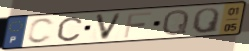C: (25, 17, 56, 45), (56, 16, 84, 43)
F: (122, 11, 153, 39)
Q: (160, 8, 191, 37), (191, 6, 222, 34)
V: (93, 11, 124, 41)
